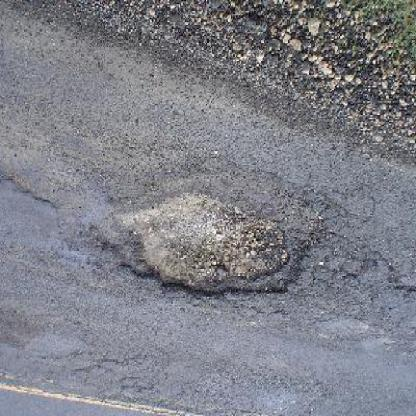pothole: (92, 185, 324, 305)
